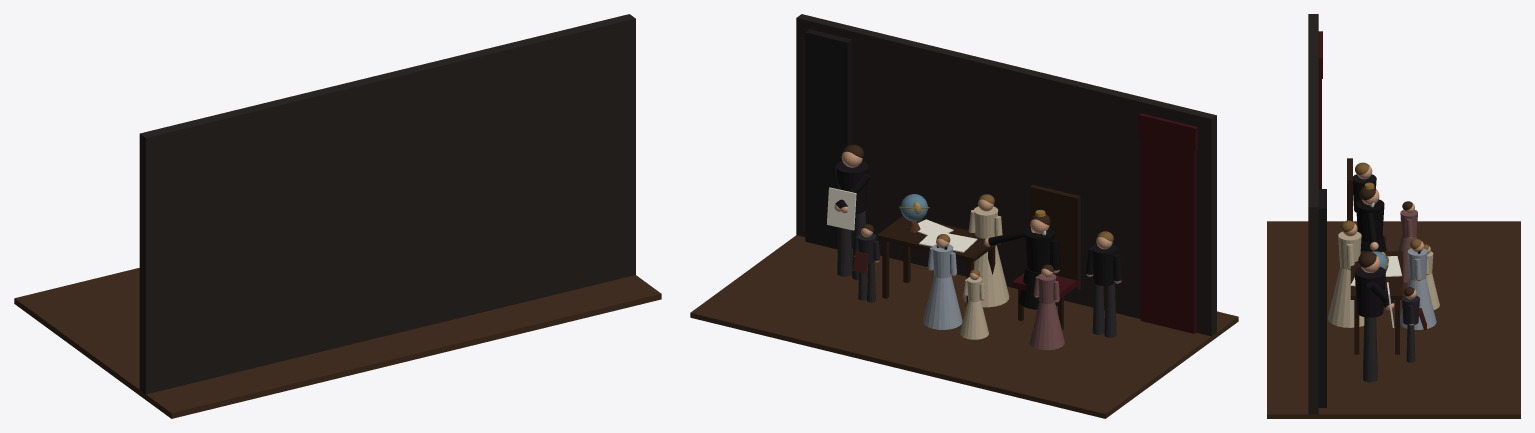
File: scan-fig68-victoria-and-children-muse.glb
The picture shows the model from 3 angles, left to right: view 1: azimuth 30°, elevation 25°; view 2: azimuth 150°, elevation 25°; view 3: azimuth 270°, elevation 25°; orthographic projection. The views are drawn at different scales.
Parts seen in each view (by area): view 1: back_wall, floor; view 2: back_wall, floor, drape_R, dark_column_L, chair_back, table_top, girl_front_skirt, drape_valance, child_r_skirt, girl_elder_skirt, queen_torso, held_document (+11 smaller); view 3: floor, back_wall, dark_column_L, girl_elder_skirt, man_torso, man_leg.001, queen_torso, table_top, girl_front_skirt, girl_elder_torso, girl_front_torso, drape_R (+11 smaller).
Part boxes in pixels (x1,y1,x2,y2): back_wall: (139, 14, 635, 394); floor: (14, 268, 661, 418); back_wall: (796, 14, 1216, 336); floor: (690, 235, 1238, 418); drape_R: (1140, 138, 1196, 333); dark_column_L: (805, 29, 851, 249); chair_back: (1030, 184, 1080, 290); table_top: (877, 216, 997, 262); girl_front_skirt: (923, 275, 962, 329); drape_valance: (1138, 113, 1197, 151); child_r_skirt: (1029, 301, 1064, 350); girl_elder_skirt: (962, 245, 1009, 307); queen_torso: (1025, 227, 1054, 272); held_document: (827, 187, 856, 230); floor: (1267, 221, 1520, 418); back_wall: (1308, 14, 1318, 414); dark_column_L: (1318, 189, 1326, 407); girl_elder_skirt: (1327, 267, 1364, 327); man_torso: (1354, 266, 1385, 317); man_leg.001: (1363, 317, 1377, 382); queen_torso: (1356, 199, 1384, 241); table_top: (1350, 251, 1403, 299); girl_front_skirt: (1400, 278, 1436, 329); girl_elder_torso: (1338, 231, 1361, 269); girl_front_torso: (1407, 248, 1427, 280); drape_R: (1318, 79, 1321, 188).
Size of the model in its own units: 5.4 by 2.76 by 3.
